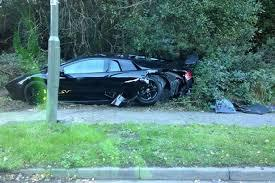quaterpanel-dent: (145, 69, 185, 86)
